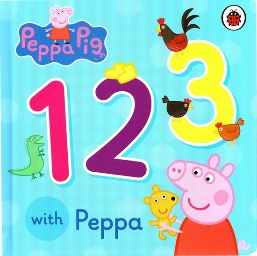Peppa: (157, 153, 251, 256)
